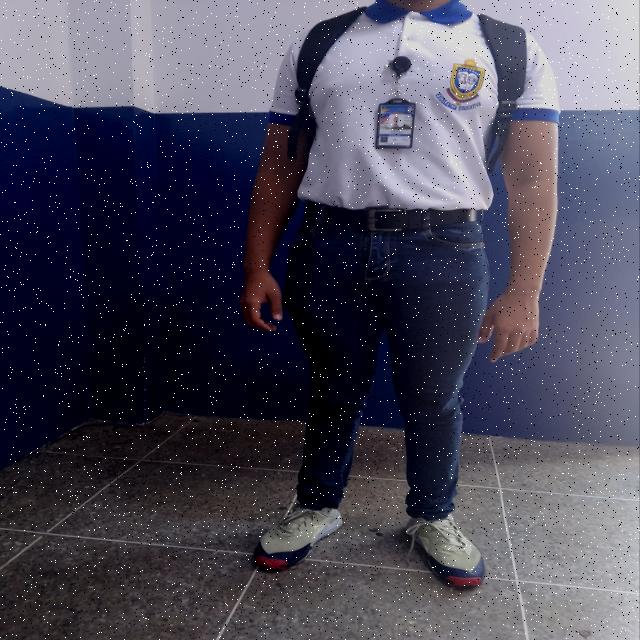carnet: (377, 103, 413, 147)
pantalon_oscuro: (283, 222, 491, 520)
uniforme_superior: (265, 0, 560, 212)
